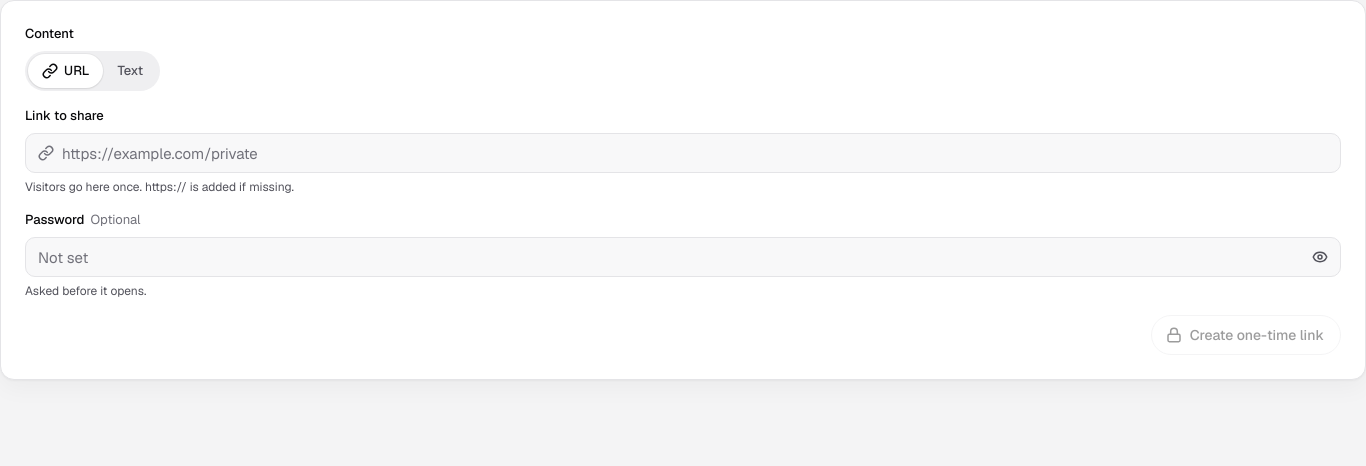
Scenario: OneTimeLinkForm (dashboard) › a text secret has a 2,000 character limit and counter
Step 1. Click the radio button labelled "Text" → (130, 71), box [104, 54, 157, 88]
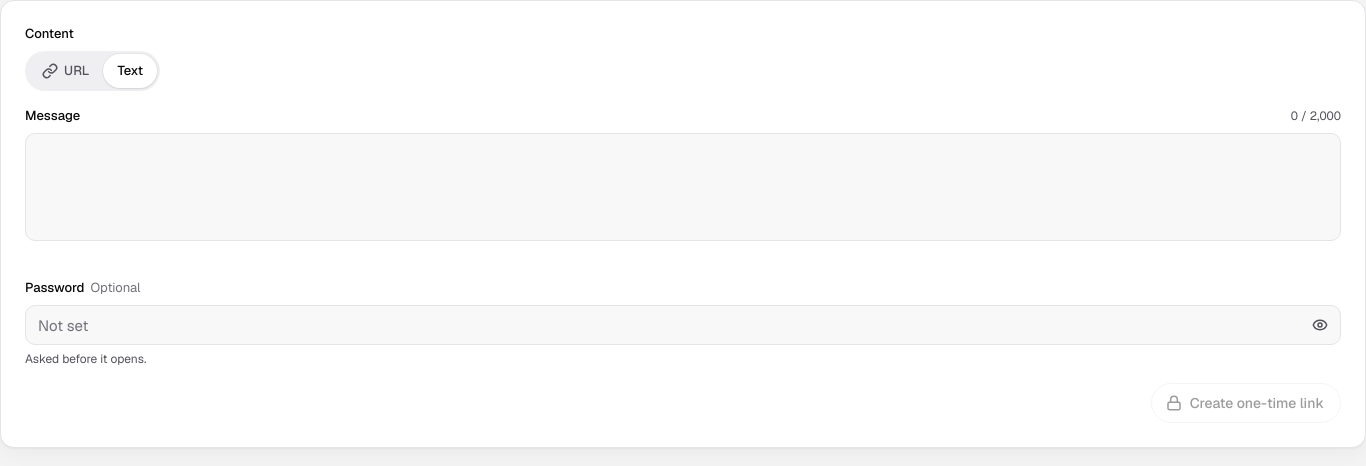
Step 2. Type "abc" into the text box labelled "Message" → (683, 187), box [38, 134, 1328, 240]
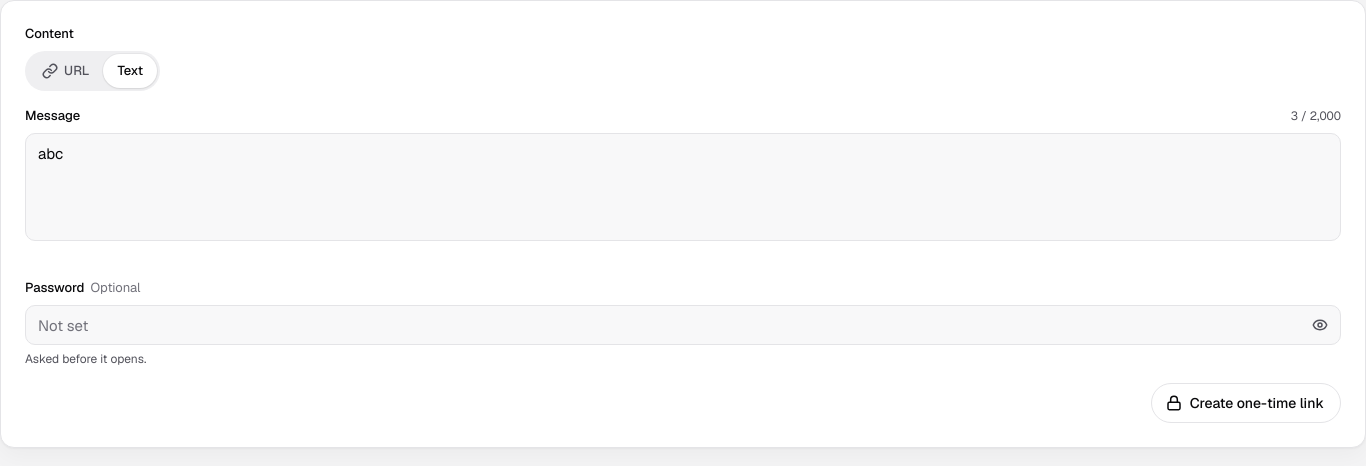
Expected: the text "3 / 2,000" is shown, [1291, 108, 1341, 124]
